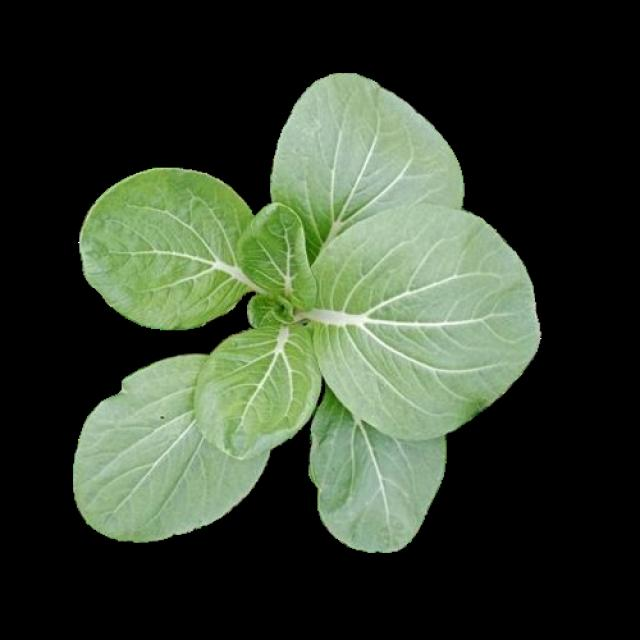healthy: (69, 69, 535, 551)
mature: (71, 72, 538, 553)
